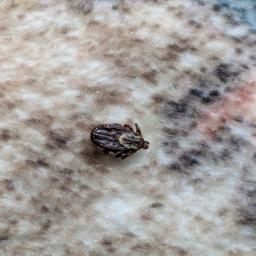Dermacentor variabilis: (89, 121, 150, 161)
